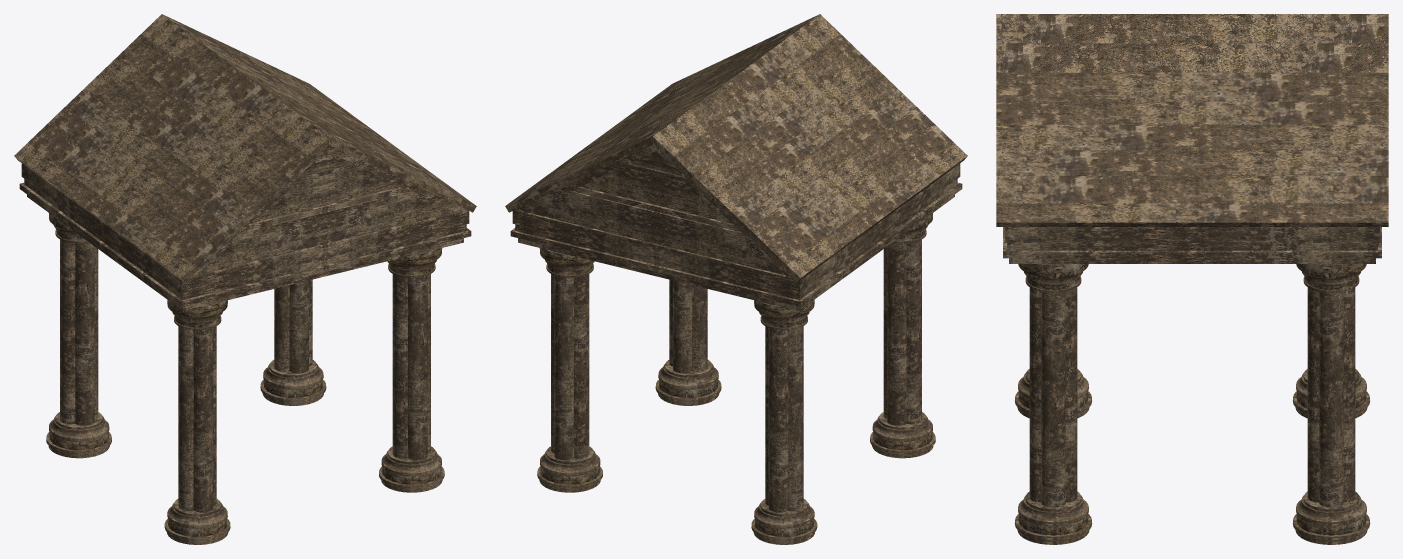
Rendered from materials_5_building_35.fbx.
3 views of the same model, side by side, from view 1: azimuth 30°, elevation 25°; view 2: azimuth 150°, elevation 25°; view 3: azimuth 270°, elevation 25° (orthographic). The views are drawn at different scales.
Parts seen in each view (by area): view 1: materials_5_building_35; view 2: materials_5_building_35; view 3: materials_5_building_35.
Part boxes in pixels (x1,y1,x2,y2): materials_5_building_35: (14,14,476,544); materials_5_building_35: (505,14,967,544); materials_5_building_35: (996,14,1388,544).
Bounding box in the file's own units: 610 × 764 × 598.
